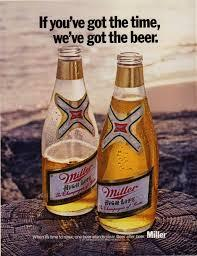Glass bottle: (93, 45, 155, 234), (43, 41, 104, 218)
